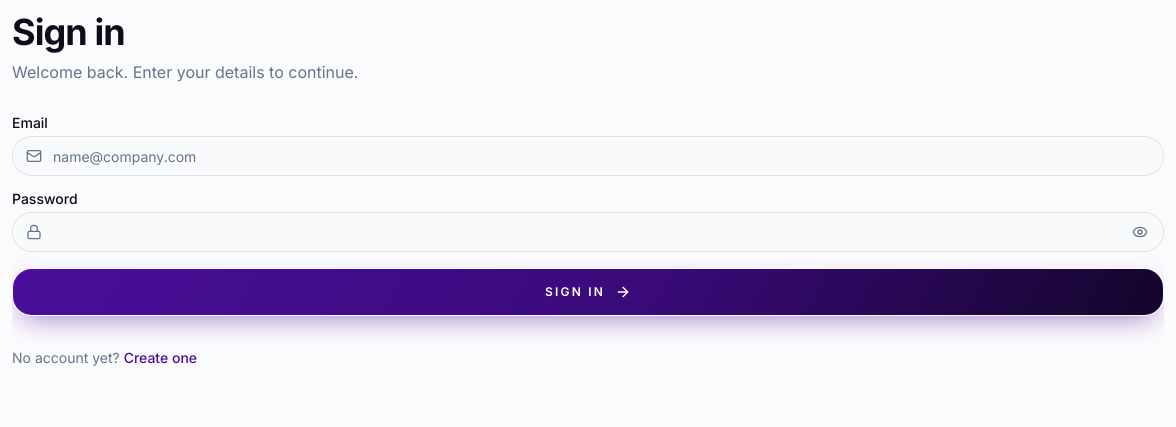
Scenario: LoginForm › validates before sending anything
This screenshot has width=1176, height=427.
Click the button "Sign in": (588, 292) [12,268,1164,316]
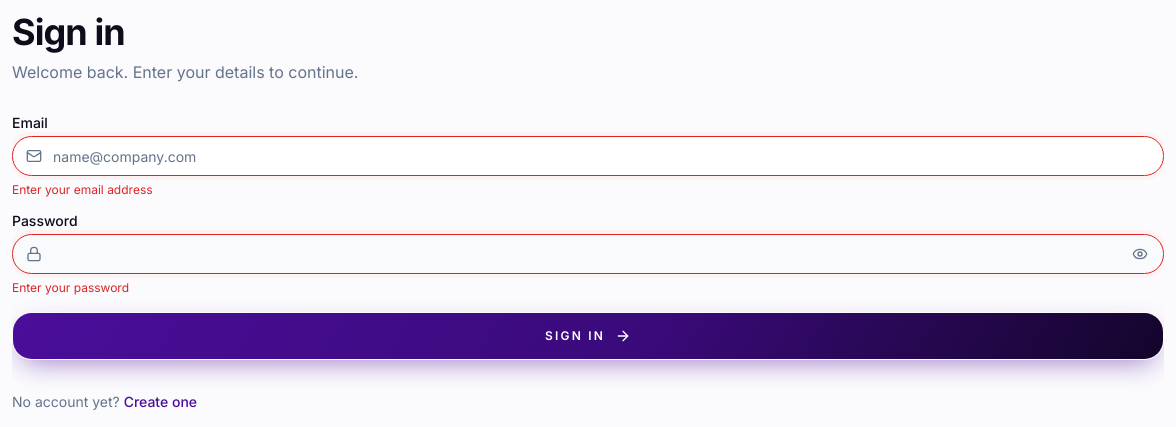
expect the text "Enter your email address" is shown: met, box [12,182,152,197]
expect the text "Enter your password" is shown: met, box [12,280,129,295]
